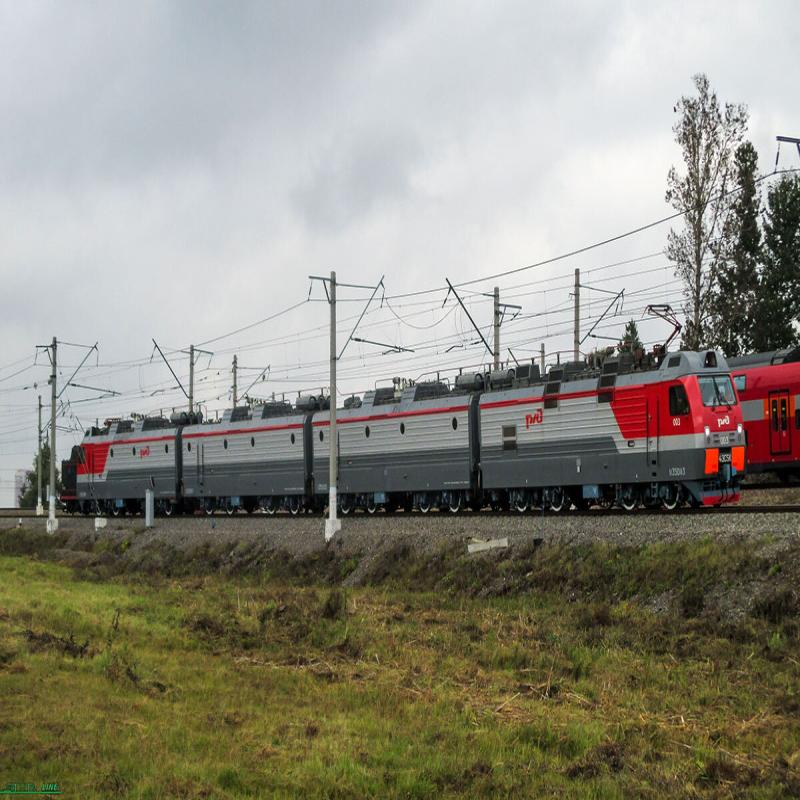train: (481, 321, 759, 541), (308, 339, 502, 537), (46, 354, 201, 554), (179, 361, 328, 523)
